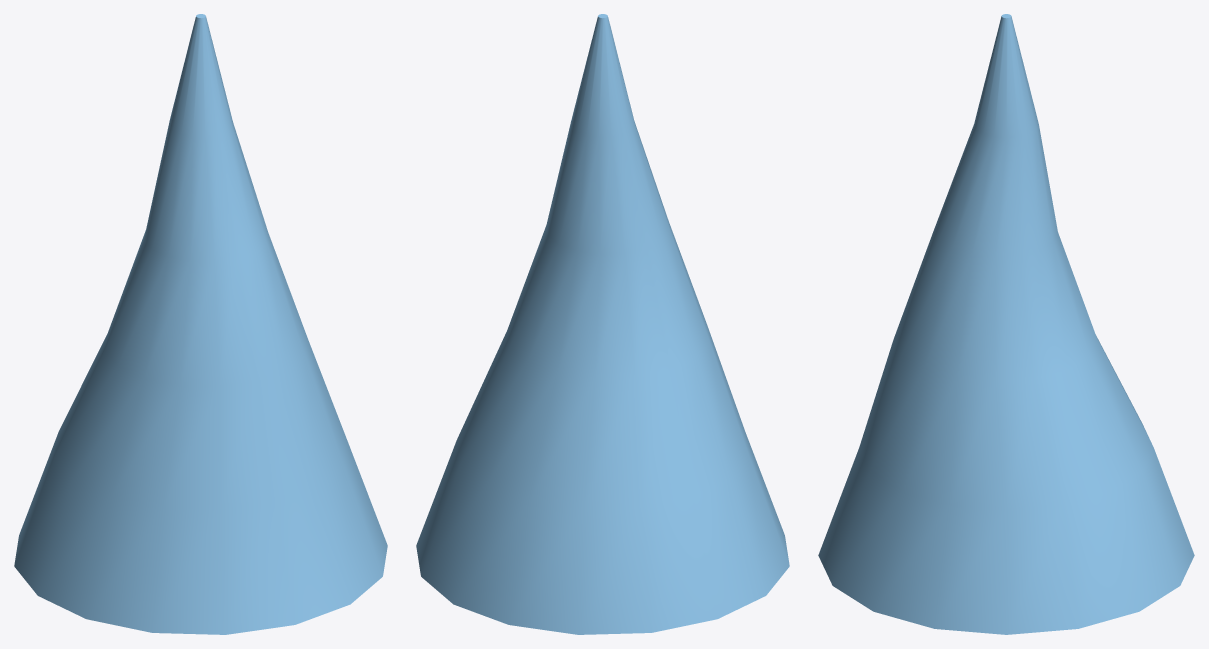
Rendered from ice.FBX.
3 renders of one model, left to right at view 1: azimuth 30°, elevation 25°; view 2: azimuth 150°, elevation 25°; view 3: azimuth 270°, elevation 25°, orthographic.
Parts seen in each view (by area): view 1: Cone002; view 2: Cone002; view 3: Cone002.
Boxes of the visible parts, bbox=[...] form: Cone002: bbox=[14, 14, 387, 634]; Cone002: bbox=[416, 14, 789, 634]; Cone002: bbox=[818, 14, 1194, 634].
Bounding box in the file's own units: 116 × 183 × 116.
